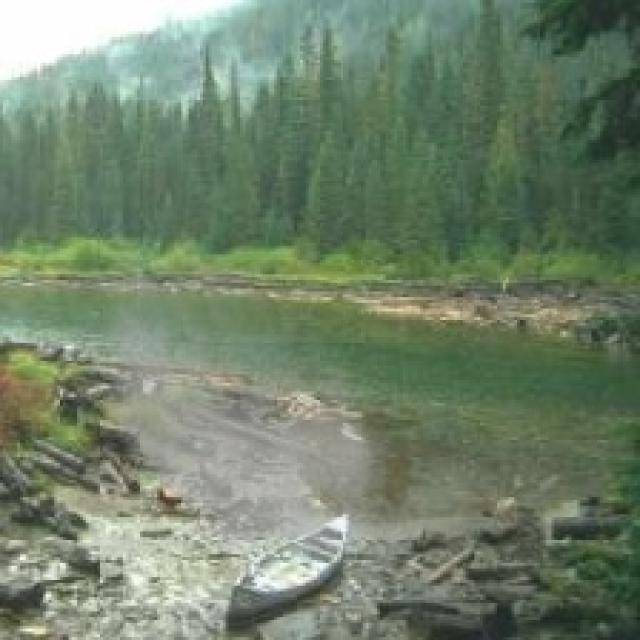Smoke: (62, 228, 408, 580)
